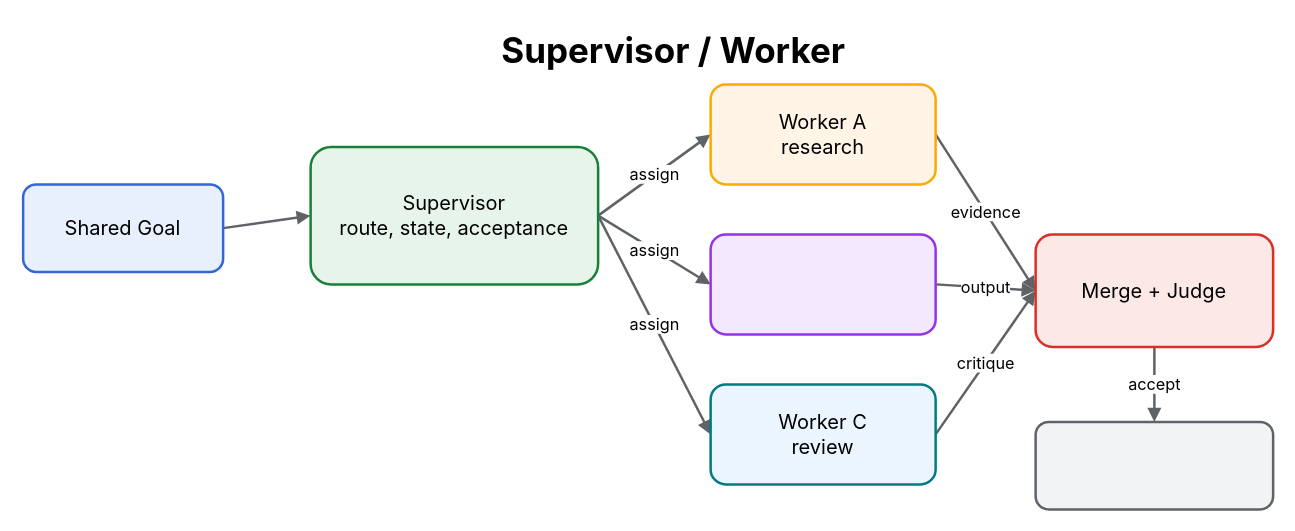
The diagram is 1295 pixels wide and 531 high, and some of its shapes have lost their labels. Each missing label, with the centre of its shape:
Final Answer: (x=1154, y=465)
Worker B analysis: (x=822, y=283)
